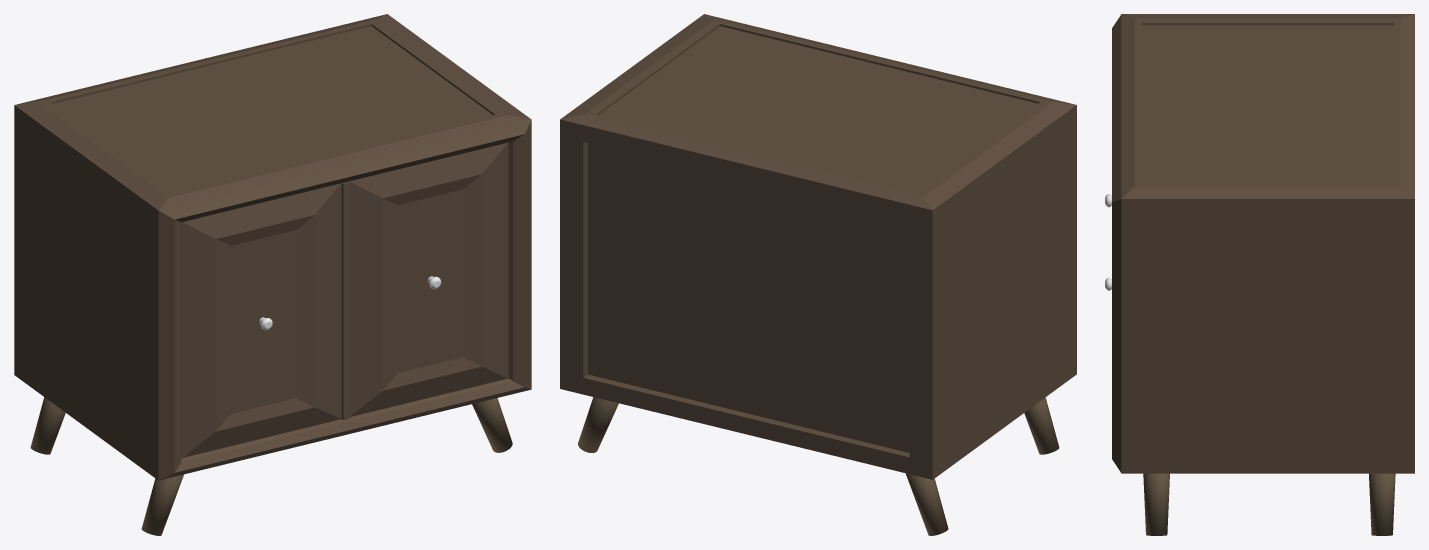
Rendered from A Small Side Table.fbx.
3 renders of one model, left to right at view 1: azimuth 30°, elevation 25°; view 2: azimuth 150°, elevation 25°; view 3: azimuth 270°, elevation 25°, orthographic.
Parts seen in each view (by area): view 1: A Small Side Table; view 2: A Small Side Table; view 3: A Small Side Table.
Boxes of the visible parts, x1,y1,x2,y2 form: A Small Side Table: (14,14,531,535); A Small Side Table: (560,14,1076,535); A Small Side Table: (1105,14,1414,535).
Size of the model in its own units: 243 by 214 by 172.
